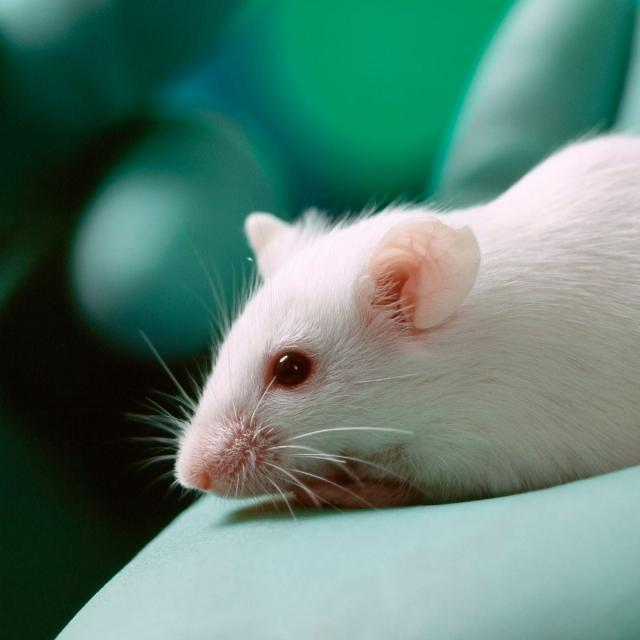Animals: (166, 114, 640, 552)
